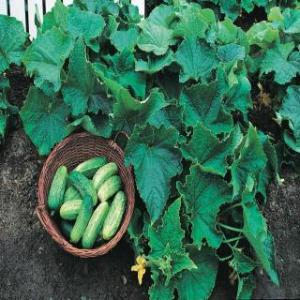cucumber: (69, 194, 94, 244), (82, 201, 106, 249), (104, 190, 126, 240), (46, 164, 68, 214), (91, 159, 119, 191)
